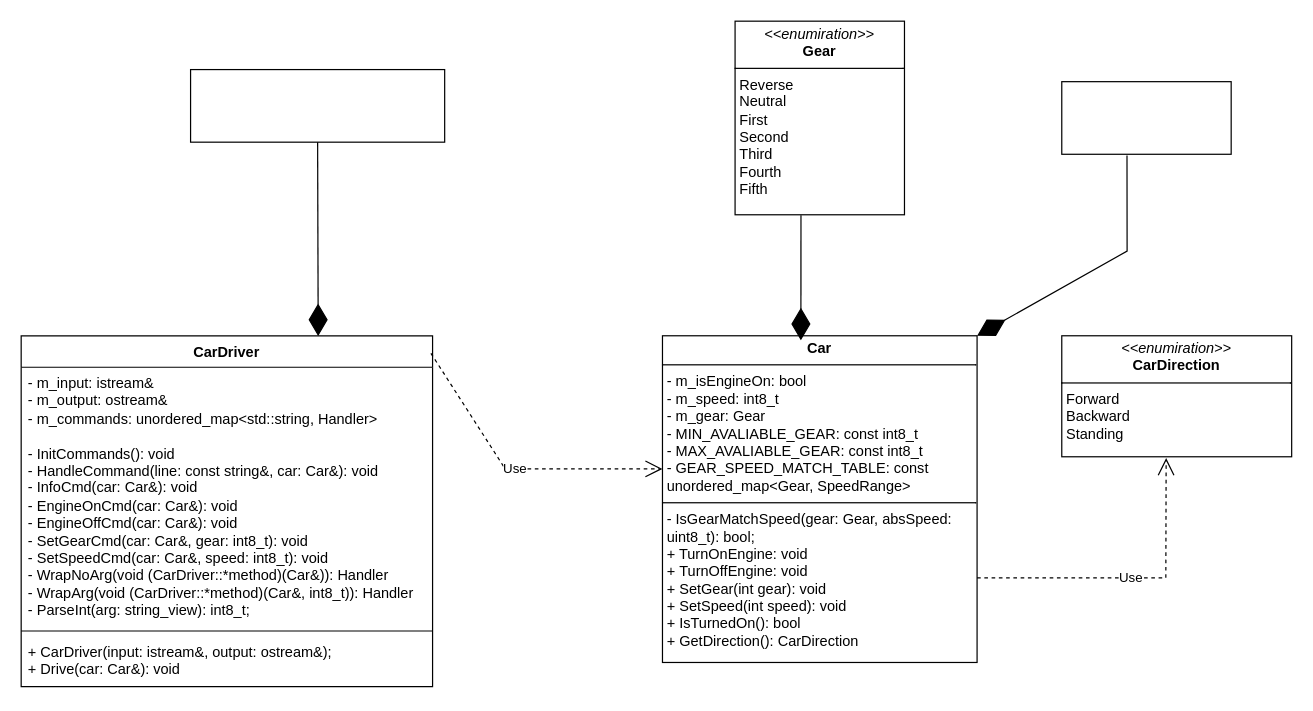
The diagram is 1313 pixels wide and 711 high, and some of its shapes have lost their labels. The centre of each missing label's shape, as x and y in pixels:
"Handler function<void(istringstream&, Car&)>" belongs at point 317,105.
"SpeedRange pair<uint8_t, uint8_t>" belongs at point 1146,117.
